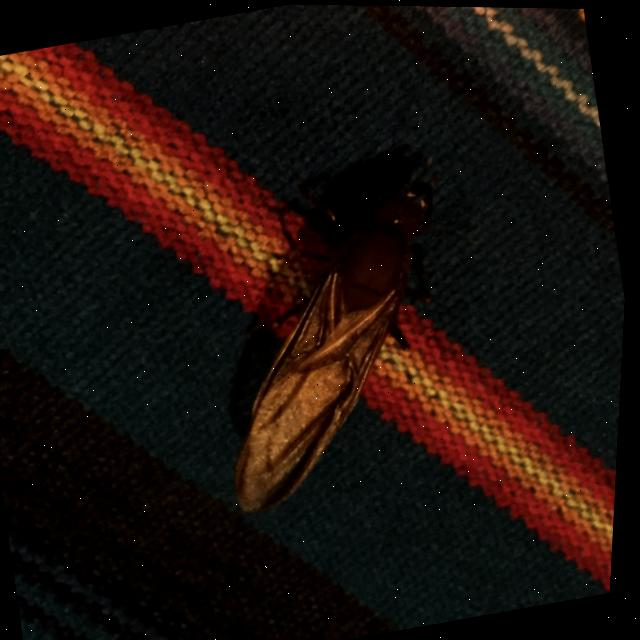Alive-Female-Alate: (182, 148, 504, 519)
